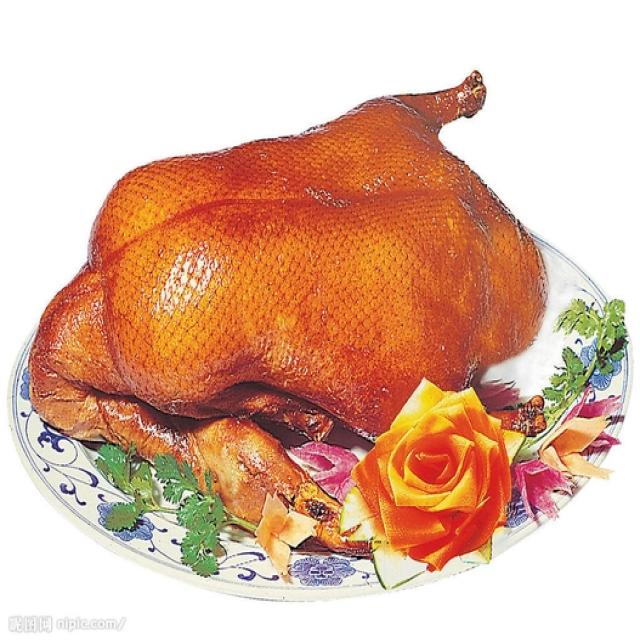烧串烤肉: (28, 50, 595, 559)
